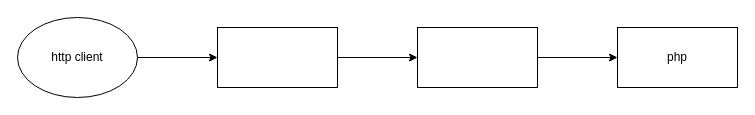
The diagram is 755 pixels wide and 115 high, and some of its shapes have lost their labels. The centre of each missing label's shape, as x and y in pixels:
"nginx" goes at (277,57).
"php-fpm" goes at (477,57).
